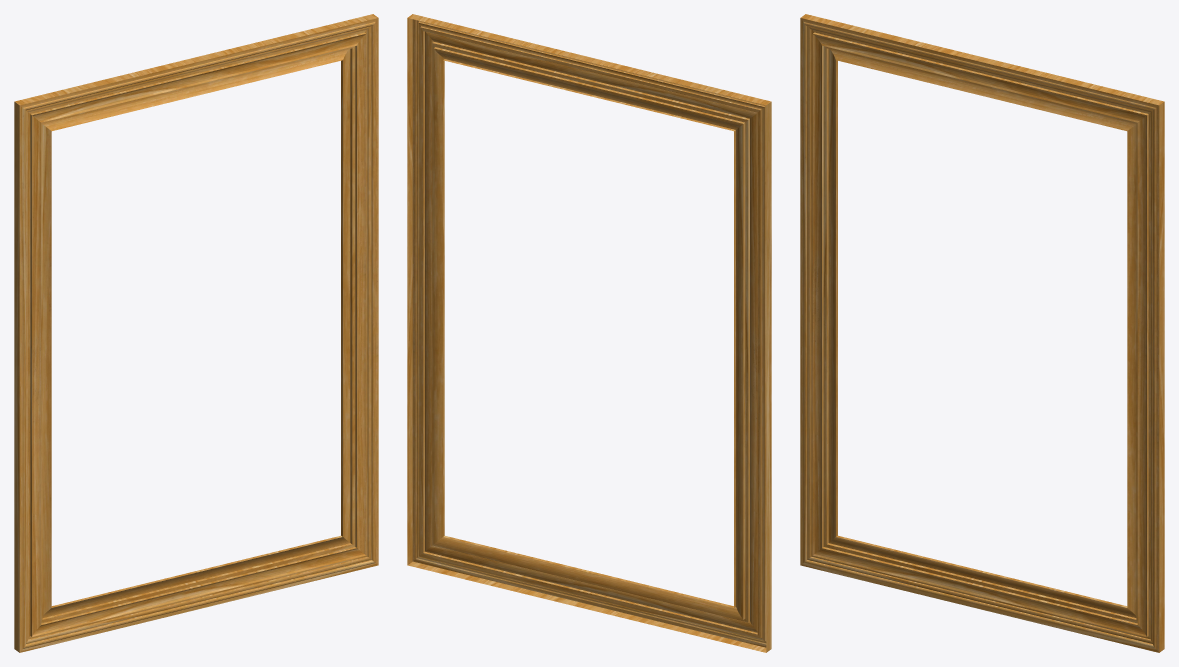
Rendered from Mirror_Frame.fbx.
The picture shows the model from 3 angles, left to right: view 1: azimuth 30°, elevation 25°; view 2: azimuth 150°, elevation 25°; view 3: azimuth 330°, elevation 25°; orthographic projection.
Visible parts, largest first — view 1: Cube; view 2: Cube; view 3: Cube.
Part boxes in pixels (bbox=[...]): Cube: bbox=[14, 14, 378, 652]; Cube: bbox=[407, 14, 771, 652]; Cube: bbox=[800, 14, 1164, 652].
Bounding box in the file's own units: 117 × 170 × 3.17.
1 material, 1 textured.
